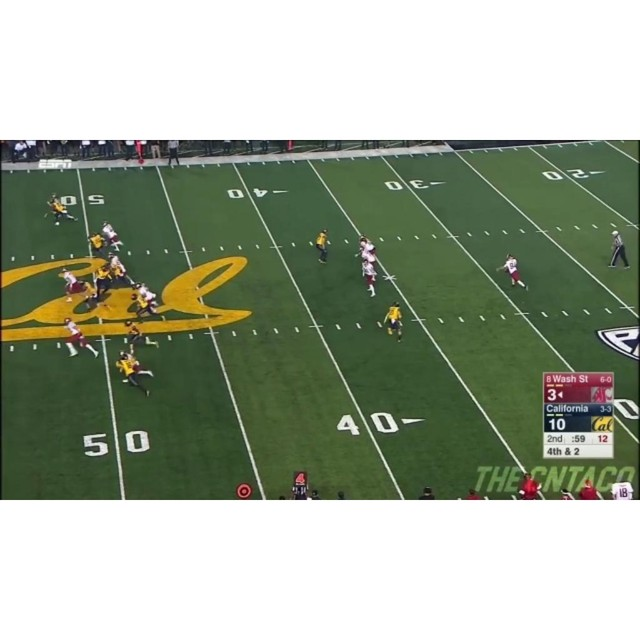american-football-player: (63, 316, 100, 358), (117, 348, 153, 391), (134, 283, 165, 322), (499, 253, 528, 290), (124, 320, 159, 348), (58, 267, 85, 302), (45, 194, 76, 224), (107, 253, 134, 286), (383, 301, 404, 343), (101, 220, 124, 252), (361, 258, 378, 297), (314, 228, 330, 264), (86, 232, 106, 258)
referee: (608, 230, 630, 269), (166, 140, 181, 168)
